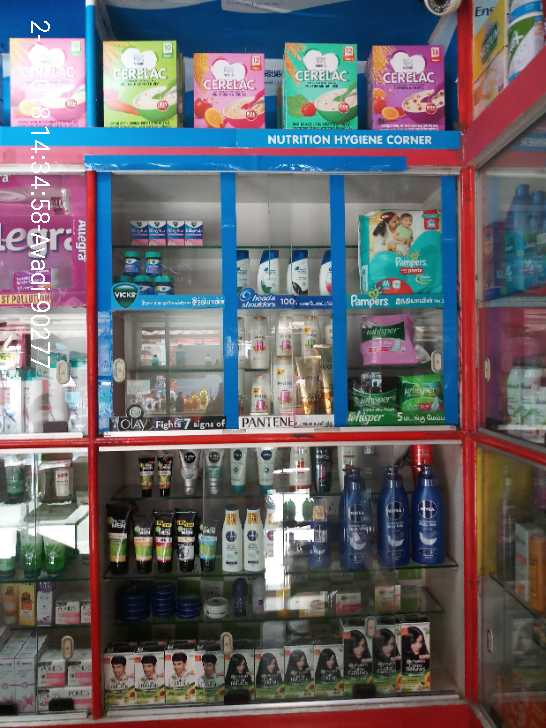vicks: (114, 251, 174, 297), (129, 218, 208, 246)
